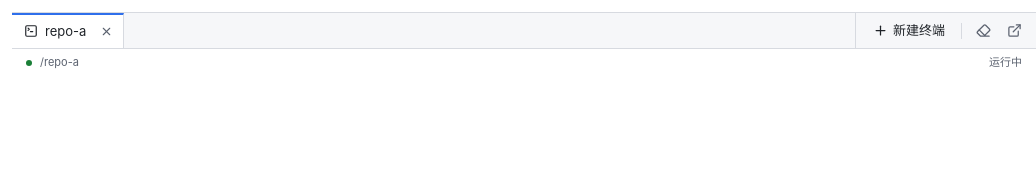
Scenario: terminal sessions › selects the nearest remaining tab when the active terminal is closed
Expected: the tab "repo-a" is shown, [12,15,94,48]
Click the button "新建终端" at (909, 30), box [864,16,954,45]
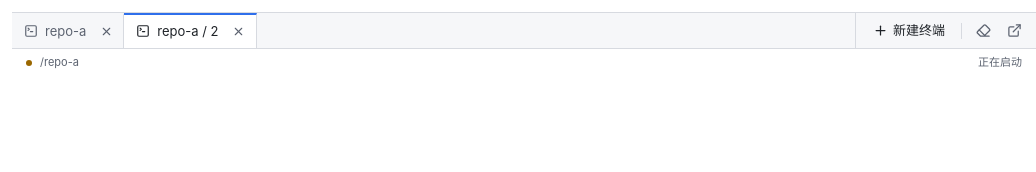
Click the button "新建终端" at (909, 30), box [864,16,954,45]
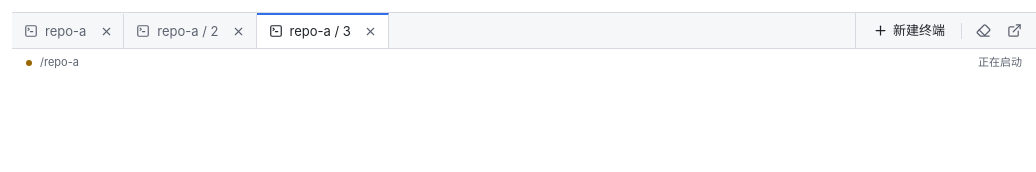
Click the tab "repo-a / 2" at (175, 32), box [124,15,226,48]
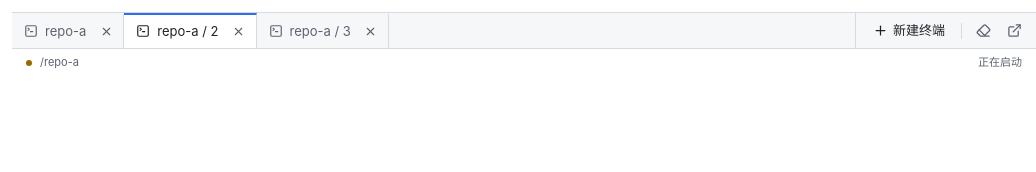
Click the button named "关闭终端 repo-a / 2" at (238, 32), box [226,20,250,44]
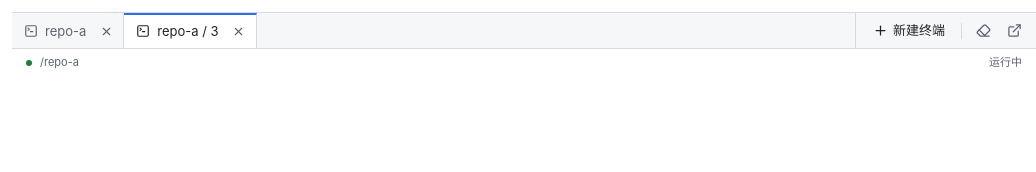
Expected: the tab "repo-a / 3" is selected, [124,15,227,48]
